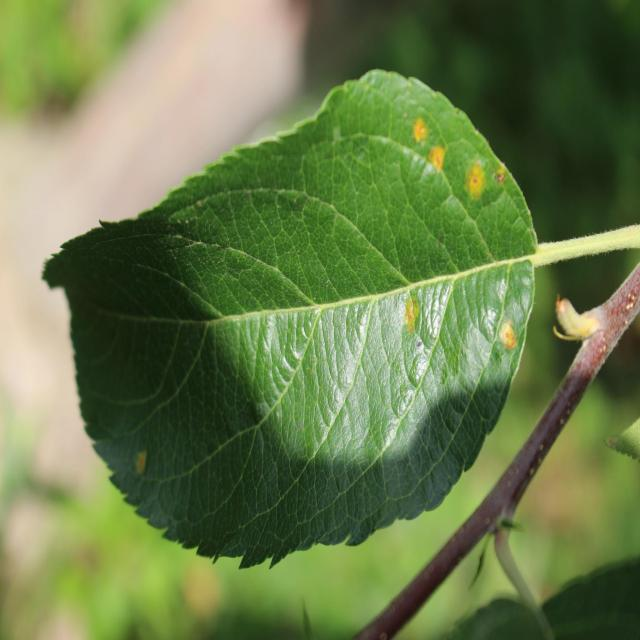Rust: (127, 440, 167, 493), (463, 156, 488, 218), (424, 140, 454, 188), (498, 306, 520, 363), (400, 290, 423, 344), (401, 113, 428, 146)
